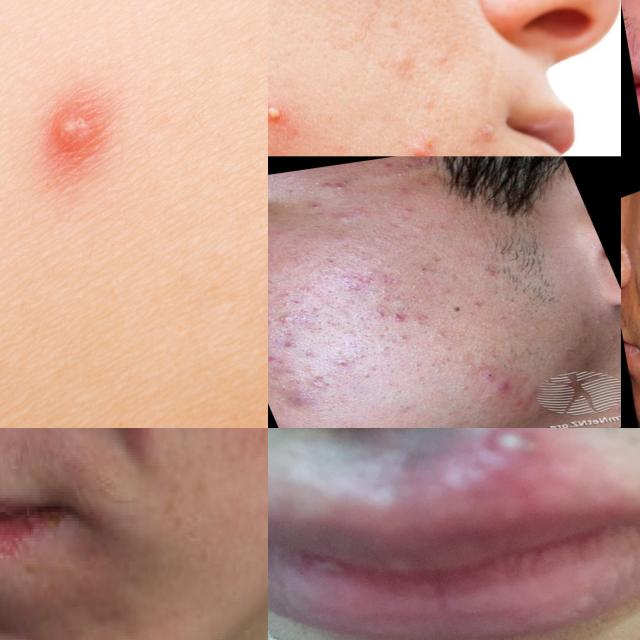comedone: (332, 208, 380, 235), (306, 253, 345, 275), (313, 174, 353, 195), (386, 166, 416, 184), (406, 315, 431, 331), (407, 224, 432, 237), (392, 332, 415, 346)
papule: (27, 66, 120, 194), (480, 376, 537, 405), (392, 134, 455, 156), (286, 384, 322, 415)
pustule: (268, 76, 331, 156)
sebo-crystan-conglo: (268, 308, 306, 331)
